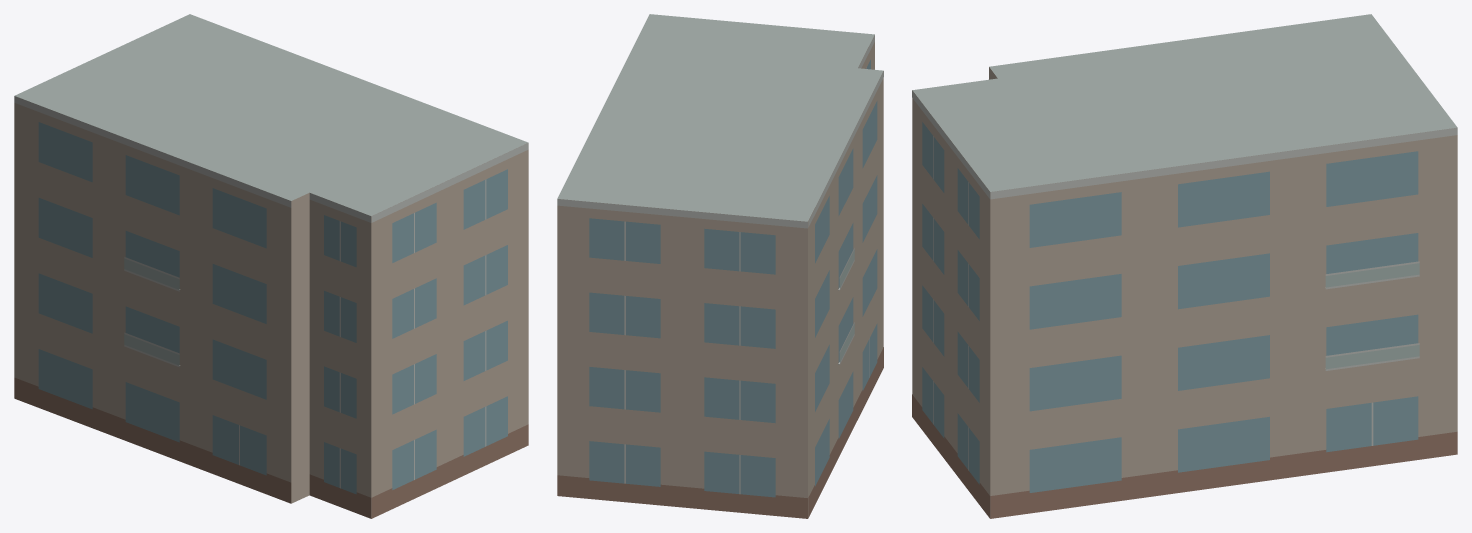
The model's file is survey-upis-32609732.glb.
The picture shows the model from 3 angles, left to right: view 1: azimuth 30°, elevation 25°; view 2: azimuth 150°, elevation 25°; view 3: azimuth 270°, elevation 25°; orthographic projection. The views are drawn at different scales.
Visible parts, largest first — view 1: survey-upis-32609732.tmp; view 2: survey-upis-32609732.tmp; view 3: survey-upis-32609732.tmp.
Boxes of the visible parts, x1,y1,x2,y2 form: survey-upis-32609732.tmp: (14, 14, 528, 518); survey-upis-32609732.tmp: (557, 14, 883, 518); survey-upis-32609732.tmp: (912, 14, 1457, 518).
Bounding box in the file's own units: 12.57 × 10.75 × 16.27.
